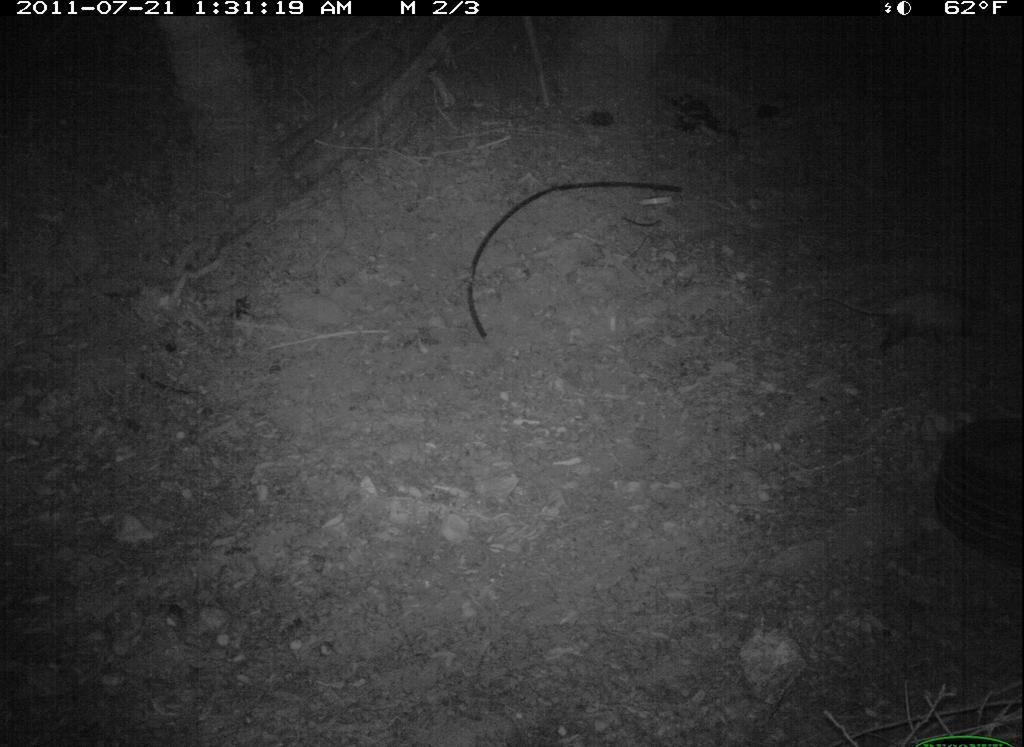opossum: (808, 281, 990, 368)
